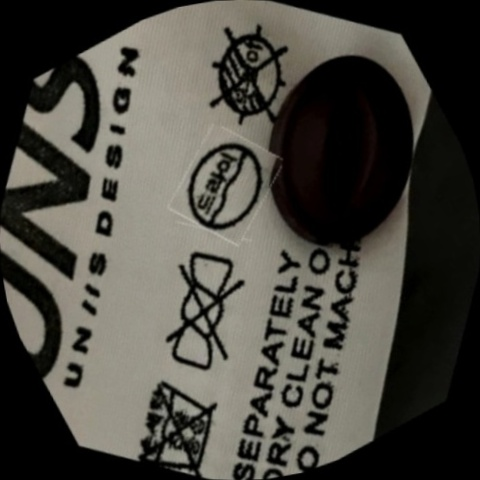DN_dry: (176, 2, 322, 150)
DN_wring: (123, 231, 287, 395)
dry_clean: (160, 118, 293, 253)
hand_wash: (106, 349, 247, 480)
